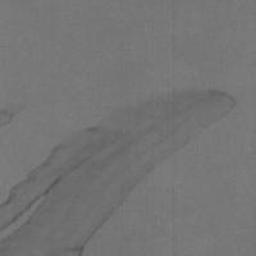Water spot: (0, 87, 238, 256), (0, 100, 27, 128)
